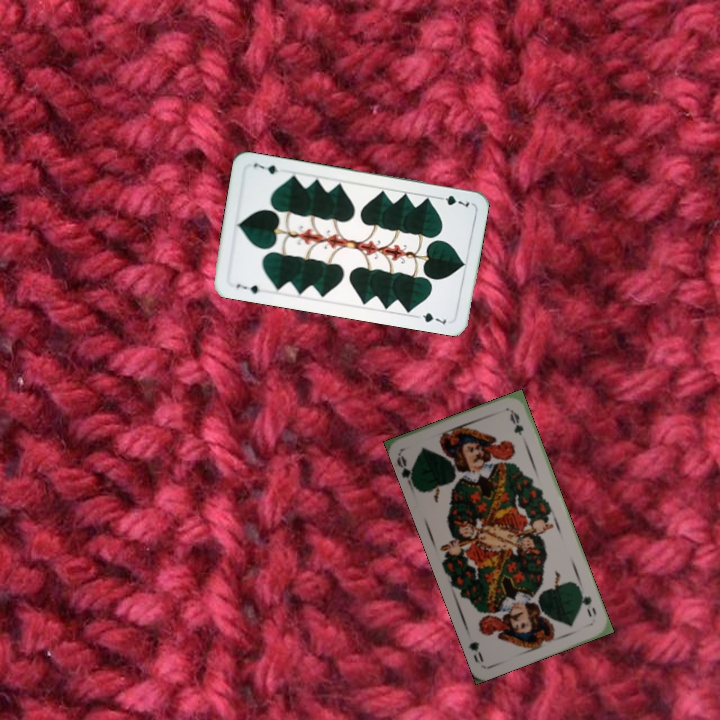G7: (433, 191, 472, 209), (232, 280, 262, 296)
GO: (393, 451, 419, 490), (575, 585, 599, 620)
